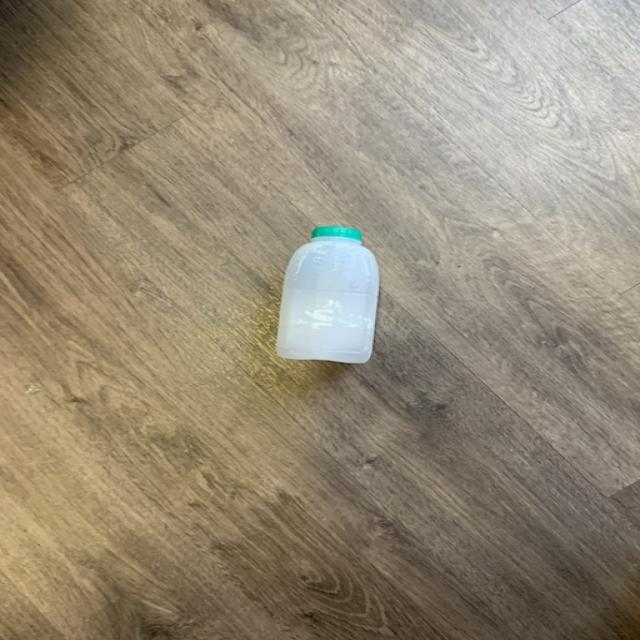litter: (270, 226, 378, 365)
